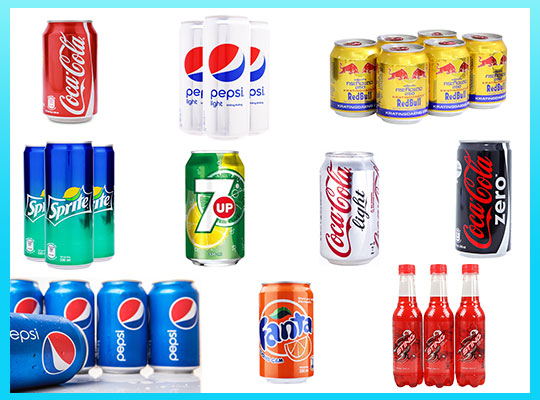7up: (191, 176, 236, 234)
cocacola: (462, 147, 494, 249), (55, 29, 89, 115), (324, 160, 353, 258)
fanta: (261, 311, 313, 352)
pepsi: (43, 329, 77, 375), (210, 43, 245, 83), (167, 297, 199, 331), (117, 296, 147, 331), (65, 298, 92, 329), (183, 46, 203, 84), (250, 45, 267, 84)
redbull: (337, 59, 375, 76), (388, 65, 427, 81), (436, 61, 469, 74), (476, 54, 506, 67)
sprite: (48, 194, 89, 221)
sting: (426, 333, 448, 360), (396, 332, 416, 360), (462, 333, 483, 359)
